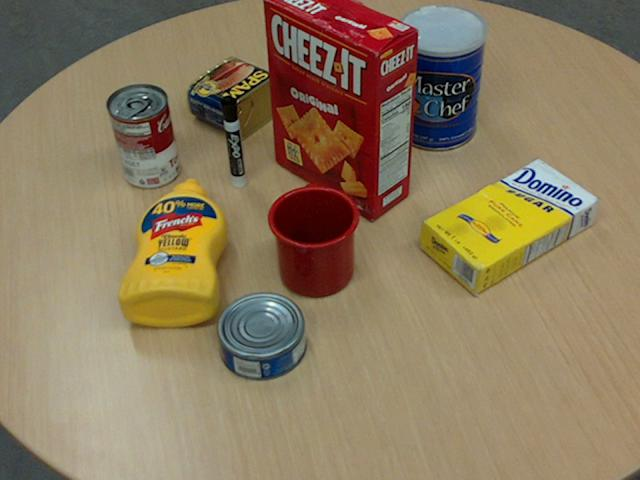cracker_box: (264, 0, 418, 217)
gelatin_box: (294, 45, 369, 107)
large_marker: (219, 94, 245, 188)
master_chef_can: (394, 5, 486, 151)
mug: (265, 184, 359, 296)
mustard_bottle: (117, 178, 226, 325)
potted_meat_can: (187, 56, 288, 138)
sugar_box: (419, 159, 598, 296)
tomato_soup_can: (106, 81, 178, 186)
tuna_fish_can: (216, 292, 306, 380)
